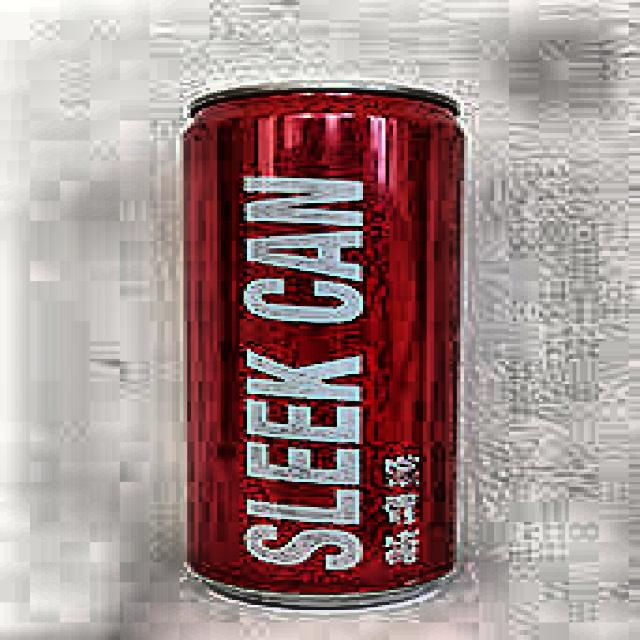can: (168, 70, 478, 613)
